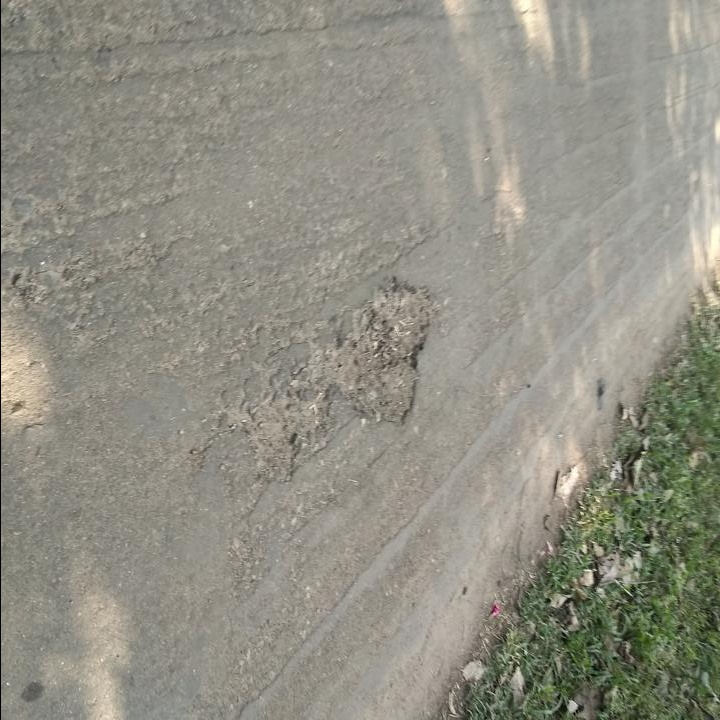pothole: (334, 271, 438, 438), (227, 386, 334, 488)
